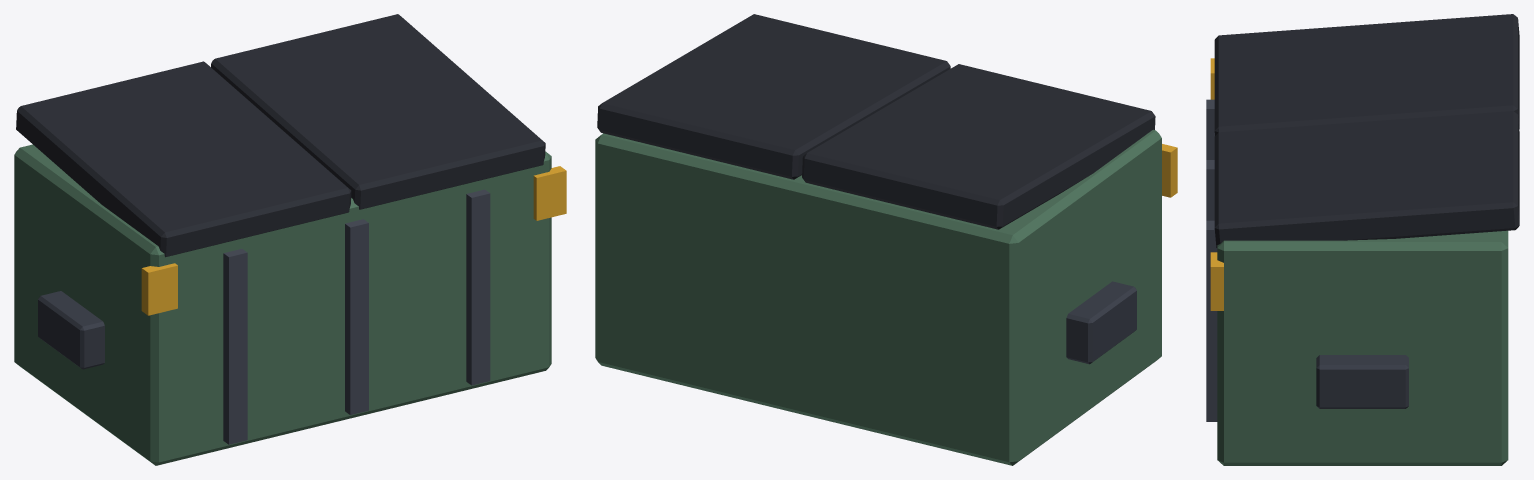
The model's file is Stylized_Prop_Dumpster.fbx.
3 renders of one model, left to right at view 1: azimuth 30°, elevation 25°; view 2: azimuth 150°, elevation 25°; view 3: azimuth 270°, elevation 25°, orthographic. The views are drawn at different scales.
Parts seen in each view (by area): view 1: Stylized_Prop_Dumpster; view 2: Stylized_Prop_Dumpster; view 3: Stylized_Prop_Dumpster.
Boxes of the visible parts, x1,y1,x2,y2 form: Stylized_Prop_Dumpster: (14, 14, 566, 465); Stylized_Prop_Dumpster: (595, 14, 1177, 465); Stylized_Prop_Dumpster: (1206, 14, 1519, 465).
Bounding box in the file's own units: 2.4 × 1.37 × 1.42.
